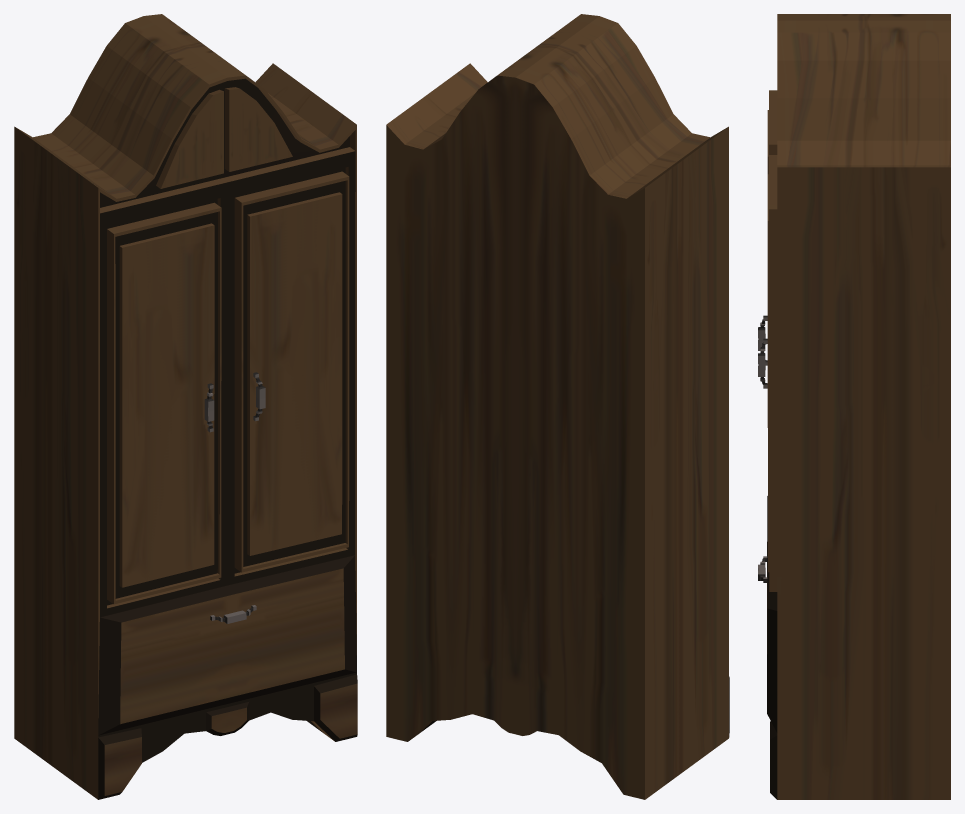
Rendered from wardrobe.fbx.
3 renders of one model, left to right at view 1: azimuth 30°, elevation 25°; view 2: azimuth 150°, elevation 25°; view 3: azimuth 270°, elevation 25°, orthographic. The views are drawn at different scales.
Parts seen in each view (by area): view 1: Cube; view 2: Cube; view 3: Cube.
Part boxes in pixels (x1,y1,x2,y2): Cube: [14, 14, 357, 799]; Cube: [386, 14, 729, 799]; Cube: [758, 14, 950, 799].
Bounding box in the file's own units: 218 × 555 × 136.
